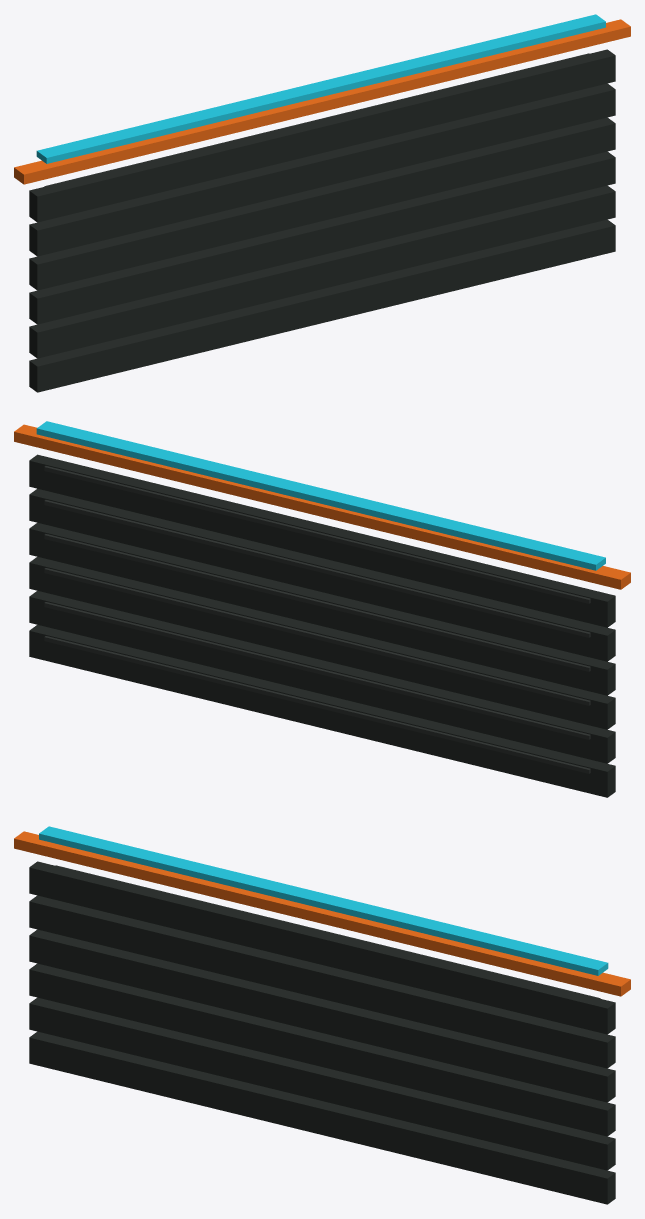
The model's file is Bastion_WarFactoryCMV2_AssemblyDoor.obj.
The picture shows the model from 3 angles, top to bottom: view 1: azimuth 30°, elevation 25°; view 2: azimuth 150°, elevation 25°; view 3: azimuth 330°, elevation 25°; orthographic projection.
Parts seen in each view (by area): view 1: door_segment_10, door_segment_2, door_segment_0, door_segment_4, door_segment_6, door_segment_8, door_orange_lip_12, door_cyan_lip_13, door_segment_rib_11; view 2: door_segment_10, door_segment_2, door_segment_4, door_segment_6, door_segment_8, door_segment_0, door_cyan_lip_13, door_orange_lip_12, door_segment_rib_5, door_segment_rib_7, door_segment_rib_11, door_segment_rib_1 (+2 smaller); view 3: door_segment_10, door_segment_2, door_segment_0, door_segment_4, door_segment_6, door_segment_8, door_orange_lip_12, door_cyan_lip_13, door_segment_rib_11.
Boxes of the visible parts, x1,y1,x2,y2 form: door_segment_10: [29, 49, 615, 222]; door_segment_2: [29, 185, 615, 358]; door_segment_0: [29, 219, 615, 392]; door_segment_4: [29, 151, 615, 324]; door_segment_6: [29, 117, 615, 290]; door_segment_8: [29, 83, 615, 256]; door_orange_lip_12: [14, 19, 630, 184]; door_cyan_lip_13: [36, 14, 605, 163]; door_segment_rib_11: [44, 53, 589, 186]; door_segment_10: [29, 454, 615, 627]; door_segment_2: [29, 591, 615, 763]; door_segment_4: [29, 556, 615, 729]; door_segment_6: [29, 522, 615, 695]; door_segment_8: [29, 488, 615, 661]; door_segment_0: [29, 625, 615, 797]; door_cyan_lip_13: [36, 421, 605, 570]; door_orange_lip_12: [14, 424, 630, 589]; door_segment_rib_5: [44, 568, 590, 705]; door_segment_rib_7: [44, 534, 590, 671]; door_segment_rib_11: [44, 466, 590, 603]; door_segment_rib_1: [44, 636, 590, 773]; door_segment_10: [29, 861, 615, 1034]; door_segment_2: [29, 997, 615, 1170]; door_segment_0: [29, 1031, 615, 1204]; door_segment_4: [29, 963, 615, 1136]; door_segment_6: [29, 929, 615, 1102]; door_segment_8: [29, 895, 615, 1068]; door_orange_lip_12: [14, 831, 630, 996]; door_cyan_lip_13: [39, 826, 608, 975]; door_segment_rib_11: [55, 865, 600, 998].
Bounding box in the file's own units: 6.35 × 2.32 × 0.2.
4 materials, 4 textured.
